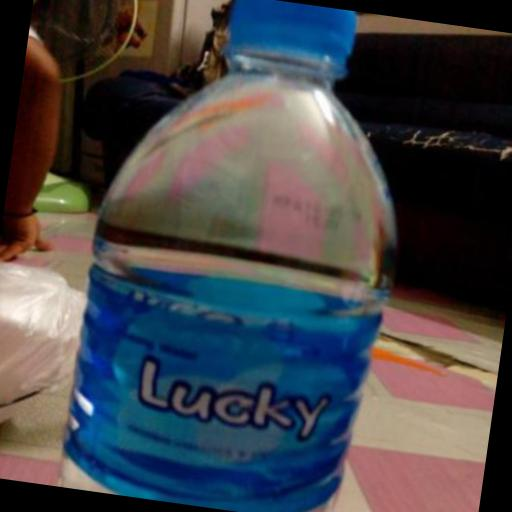Coca: (48, 0, 437, 512)
